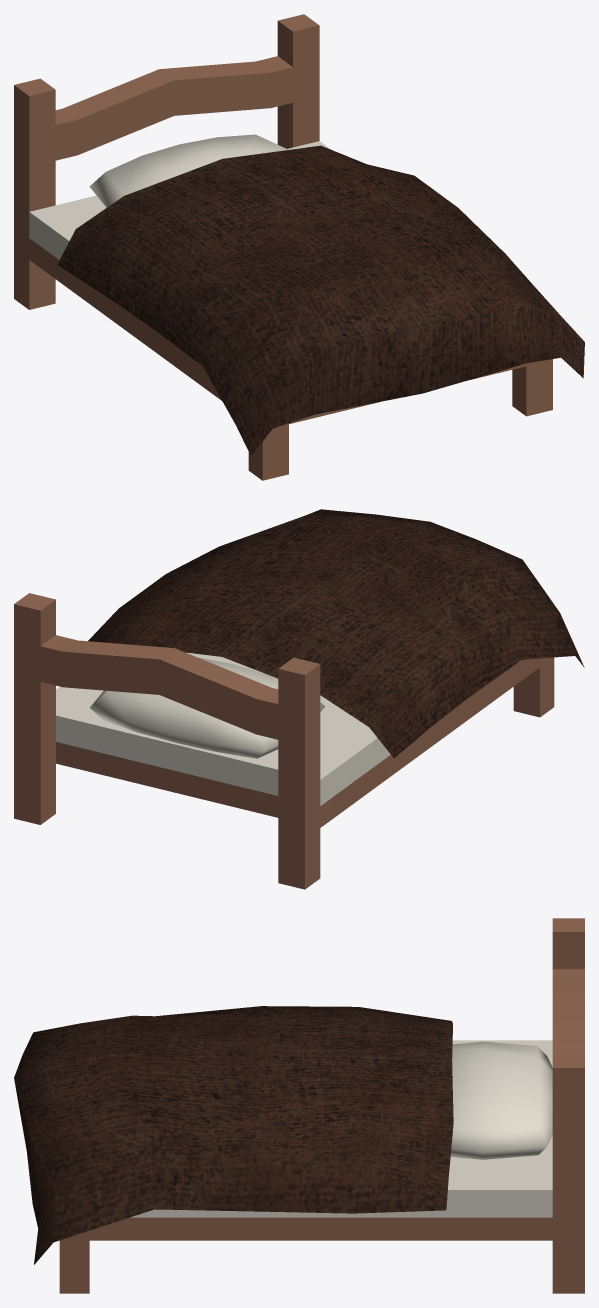
Rendered from Bed.fbx.
3 renders of one model, top to bottom at view 1: azimuth 30°, elevation 25°; view 2: azimuth 150°, elevation 25°; view 3: azimuth 270°, elevation 25°, orthographic. The views are drawn at different scales.
Parts seen in each view (by area): view 1: Blanket, polySurface6; view 2: Blanket, polySurface6; view 3: Blanket, polySurface6.
Boxes of the visible parts, bbox=[...] form: Blanket: bbox=[57, 145, 584, 455]; polySurface6: bbox=[14, 14, 552, 480]; Blanket: bbox=[88, 509, 584, 758]; polySurface6: bbox=[14, 593, 554, 889]; Blanket: bbox=[14, 1006, 453, 1264]; polySurface6: bbox=[59, 918, 584, 1293].
Size of the model in its own units: 423 by 252 by 577.
